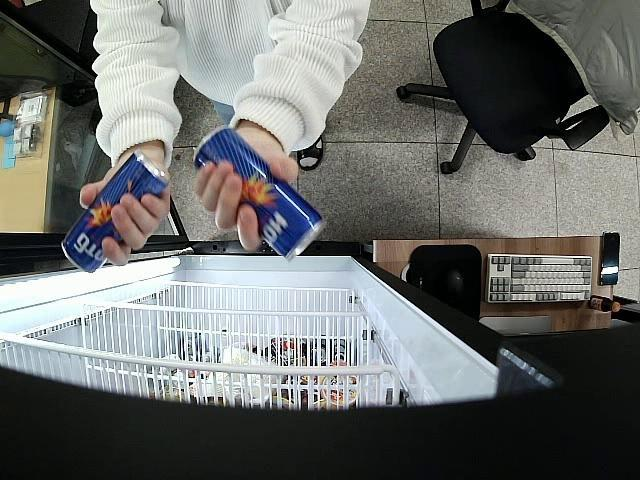16_hot6: (192, 128, 327, 262), (59, 151, 168, 270)
